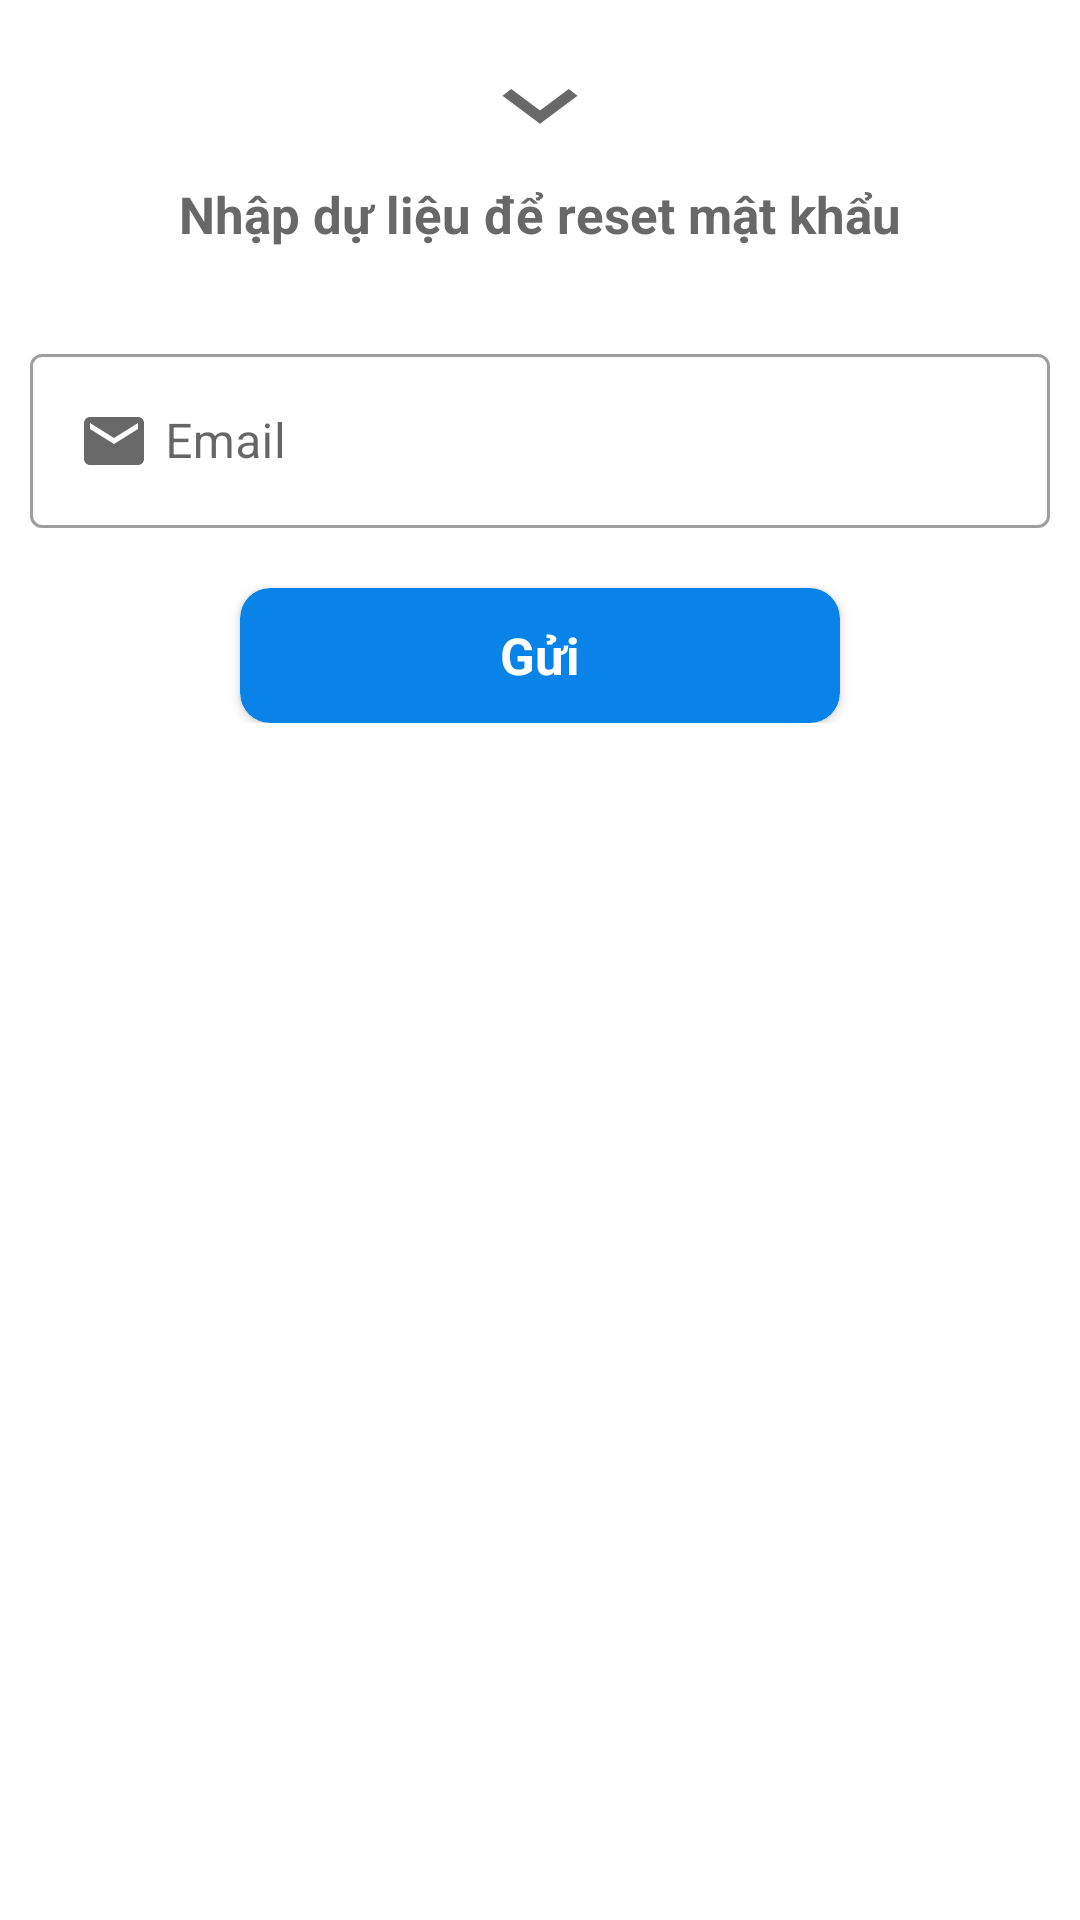

Screen size 1080 × 1920. Icon name, then its center in pixels as [x,y]:
arrow down: [539,106]
